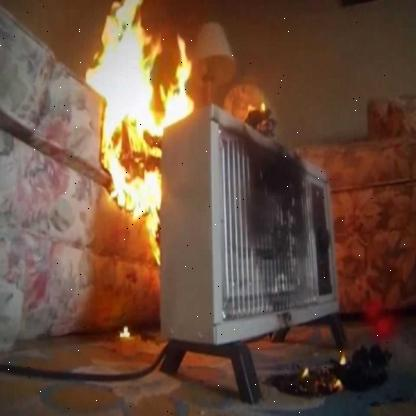fire: (87, 1, 203, 264)
